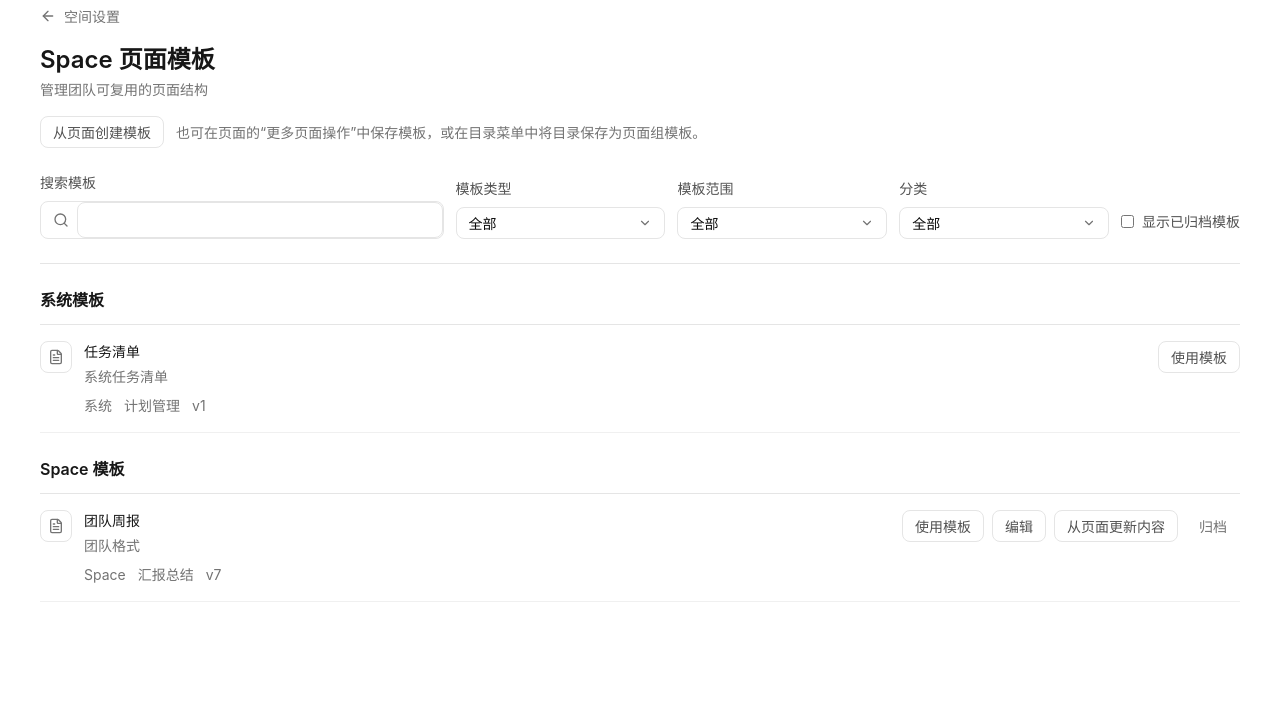
Test: PageTemplateManager › keeps conflict recovery available when reloading the latest token fails
Click the button with aria-label "编辑 团队周报" at (1019, 526), box top-left (992, 510), bottom-right (1046, 542)
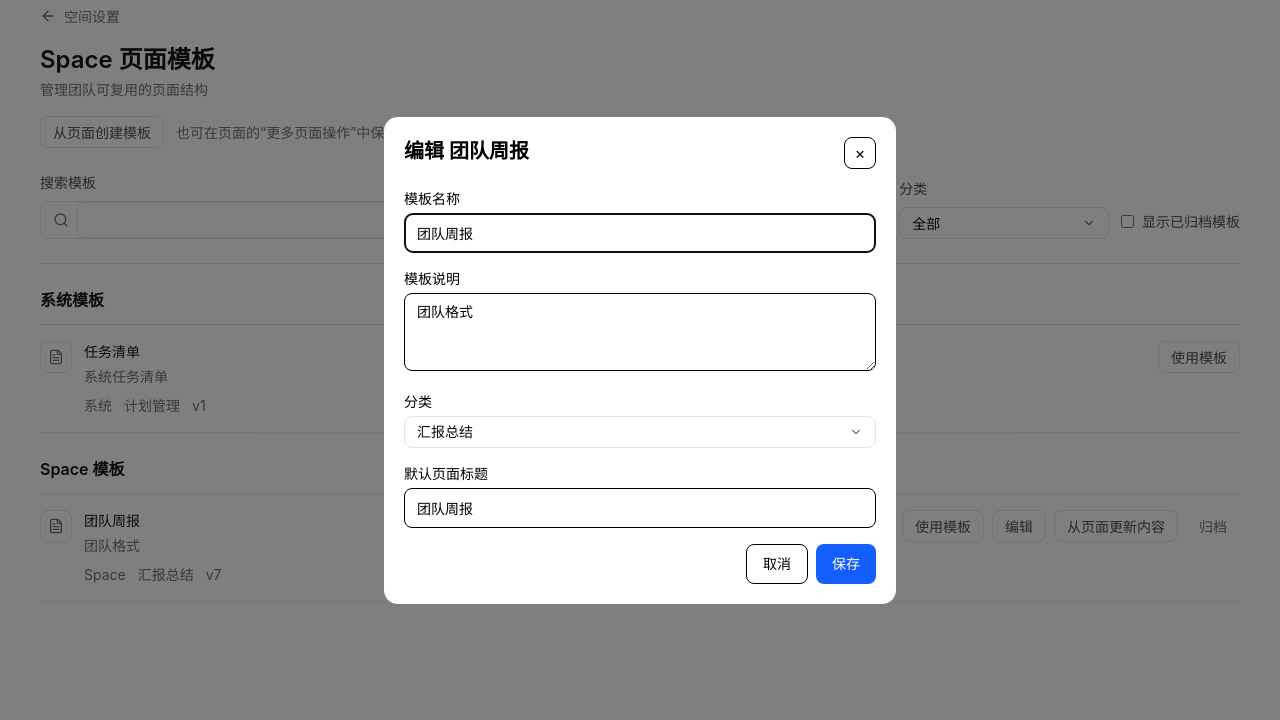
Replace the text in the field labelled "模板名称" with "保留的名称" at (640, 232), box top-left (404, 212), bottom-right (876, 252)
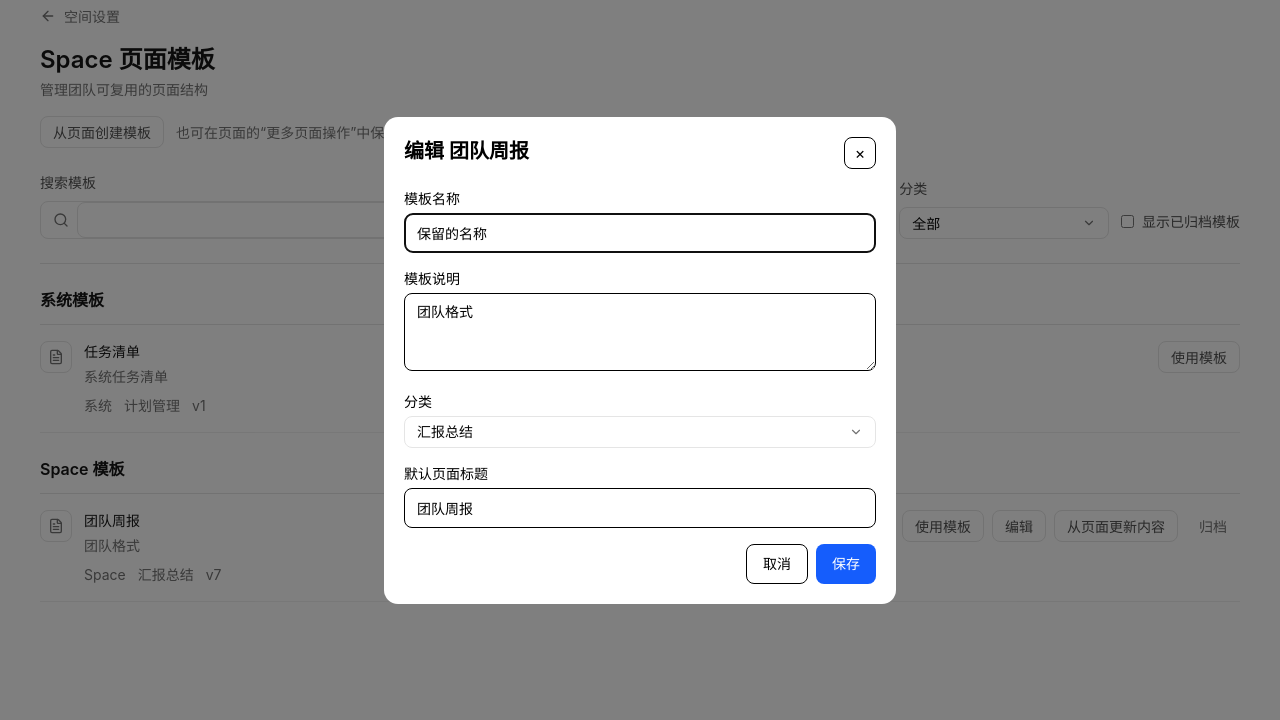
Click the button "保存" at (846, 564), box top-left (816, 544), bottom-right (876, 584)
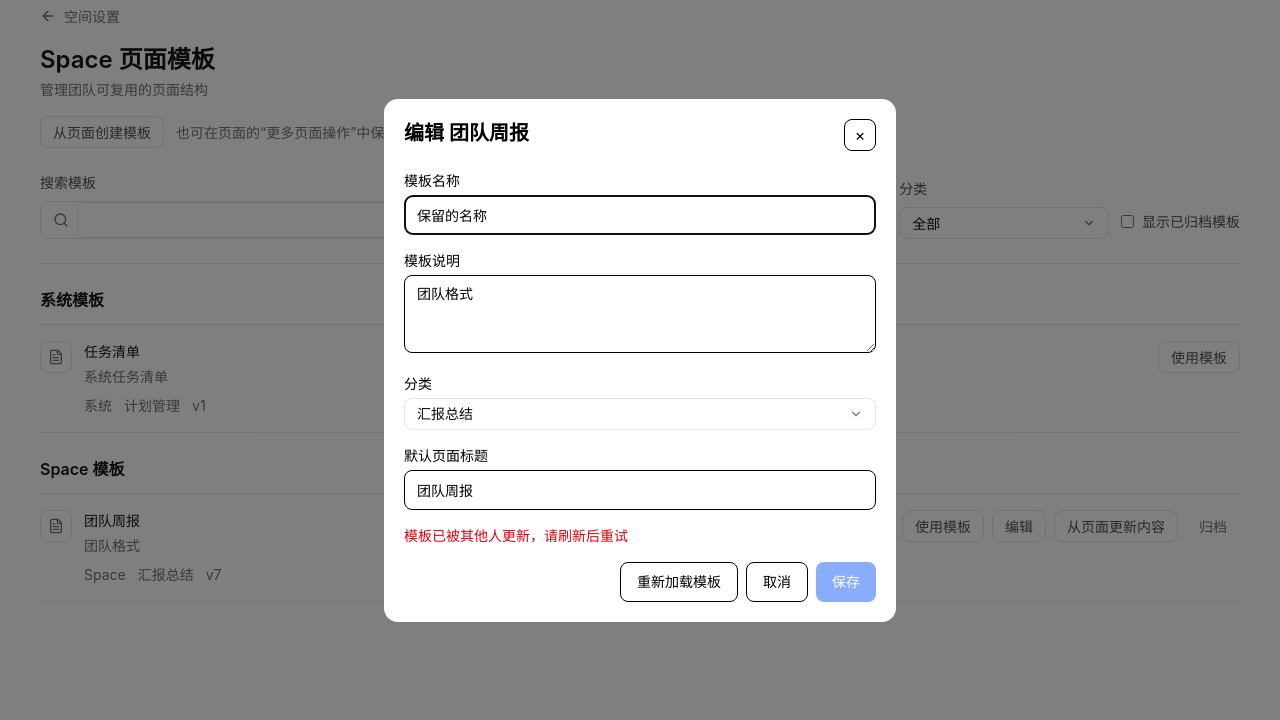
Click the button "重新加载模板" at (679, 582), box top-left (620, 562), bottom-right (738, 602)
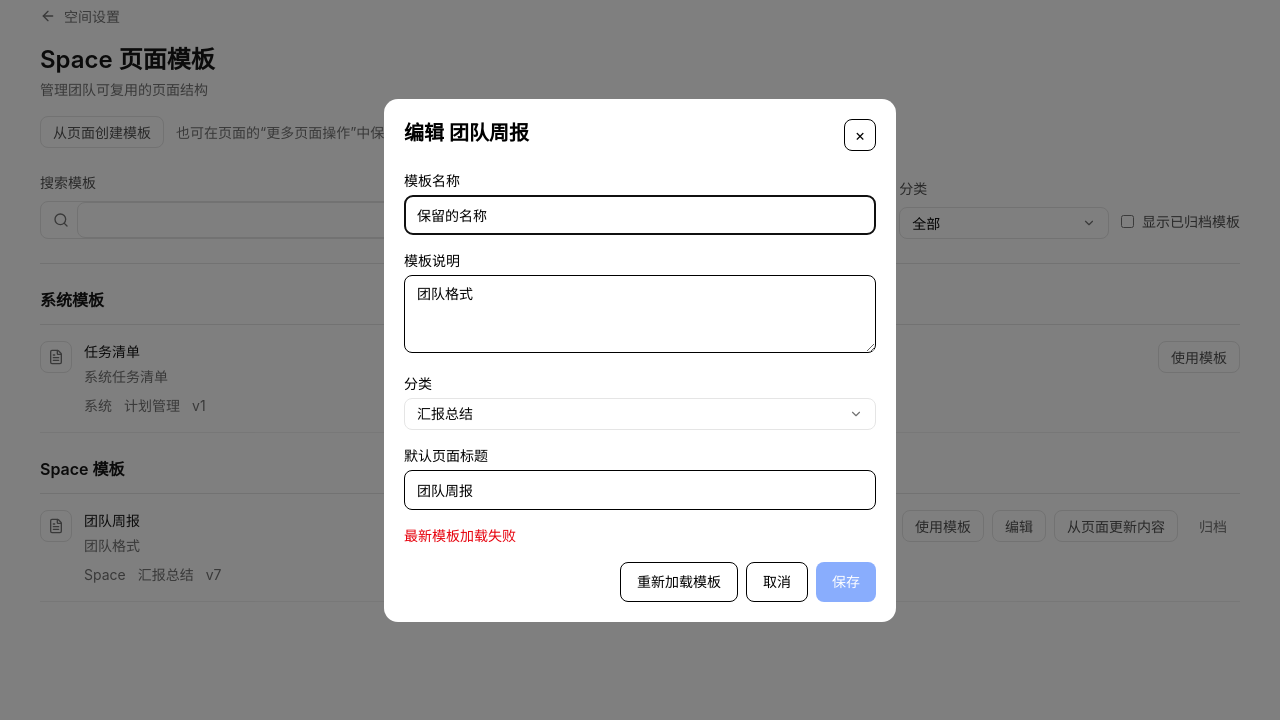
Expected: the button "重新加载模板" is enabled, top-left (620, 562), bottom-right (738, 602)
Expected: the message reads "最新模板加载失败", top-left (404, 526), bottom-right (516, 544)
